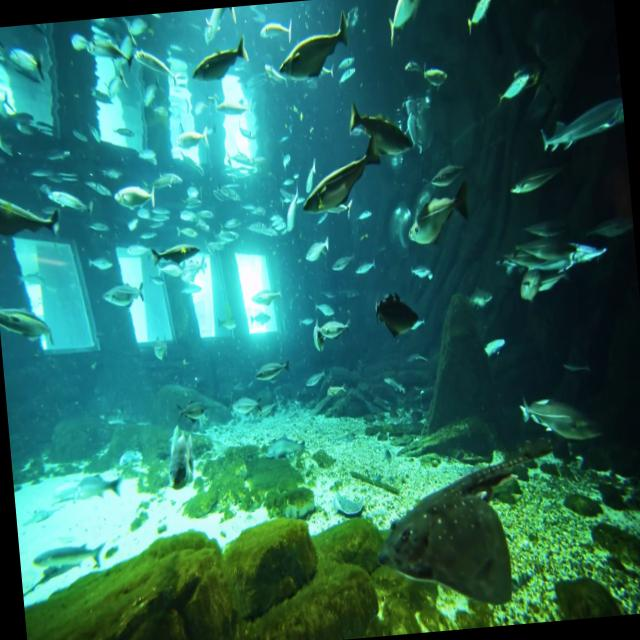fish: (266, 6, 356, 95), (294, 136, 382, 222), (534, 89, 624, 163), (398, 171, 471, 252), (344, 90, 418, 166), (515, 220, 611, 274), (0, 176, 70, 249), (364, 281, 437, 346), (514, 390, 603, 440), (185, 29, 252, 95), (0, 287, 58, 355), (143, 223, 210, 280), (132, 31, 185, 91), (90, 269, 148, 322), (488, 60, 538, 118), (102, 172, 162, 220), (502, 158, 565, 200), (39, 175, 100, 218), (2, 37, 48, 93), (378, 0, 432, 44), (306, 307, 352, 353), (514, 238, 580, 269), (244, 352, 295, 392), (253, 1, 294, 49), (169, 386, 211, 431), (459, 0, 503, 42), (260, 47, 290, 92), (250, 276, 287, 310), (462, 276, 495, 314), (80, 252, 116, 283), (476, 331, 510, 360), (281, 192, 300, 242)
